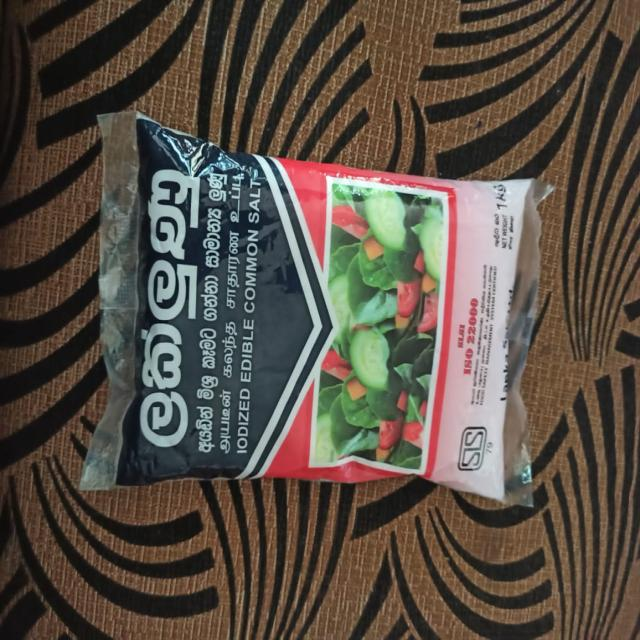Lak Lunu: (100, 119, 586, 550)
